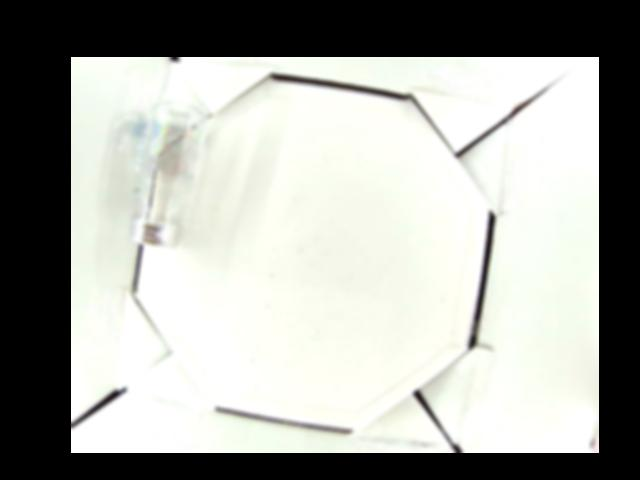Bottle: (132, 101, 209, 250)
